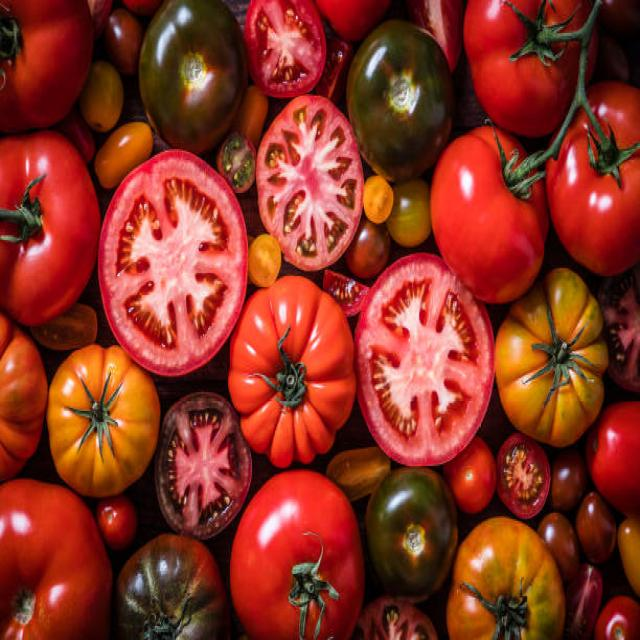Tomato: (348, 240, 498, 499), (101, 147, 249, 362), (255, 76, 374, 278), (145, 384, 241, 532), (243, 0, 341, 110)
